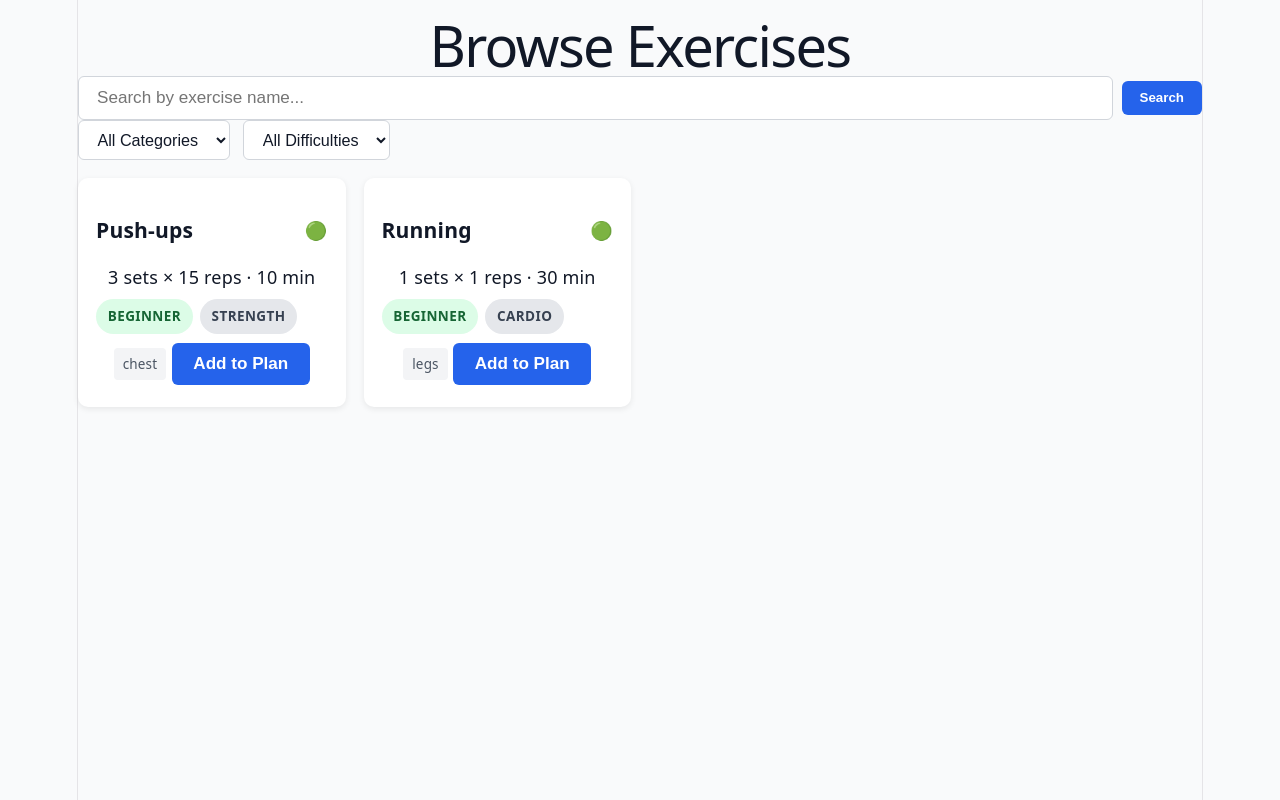
Scenario: ExercisesPage › filters the exercise list when a category is selected
Expected: the heading "Push-ups" is shown, [96,217,193,243]
Select "Cardio" in the 1st dropdown: (154, 140) [78,120,230,160]
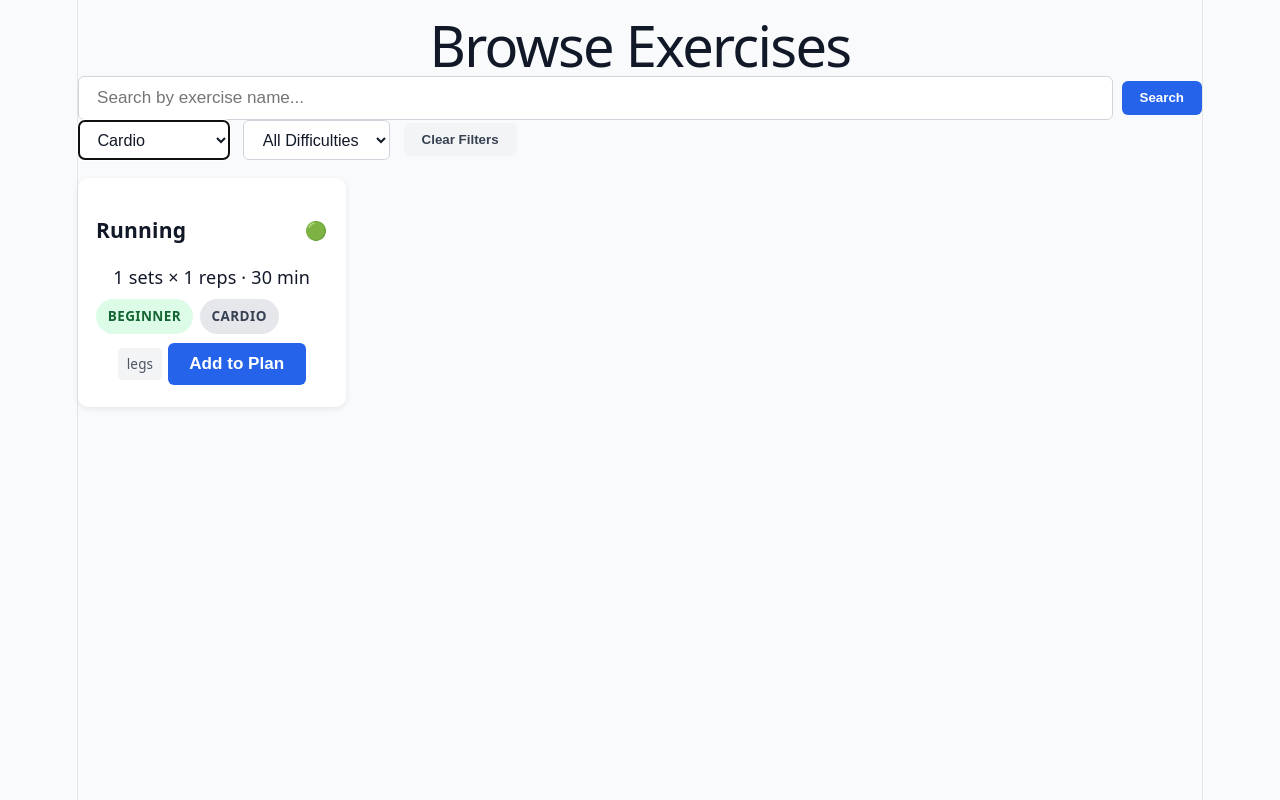
Expected: the heading "Running" is shown, [96,217,186,243]
Now the heading "Push-ups" is gone
